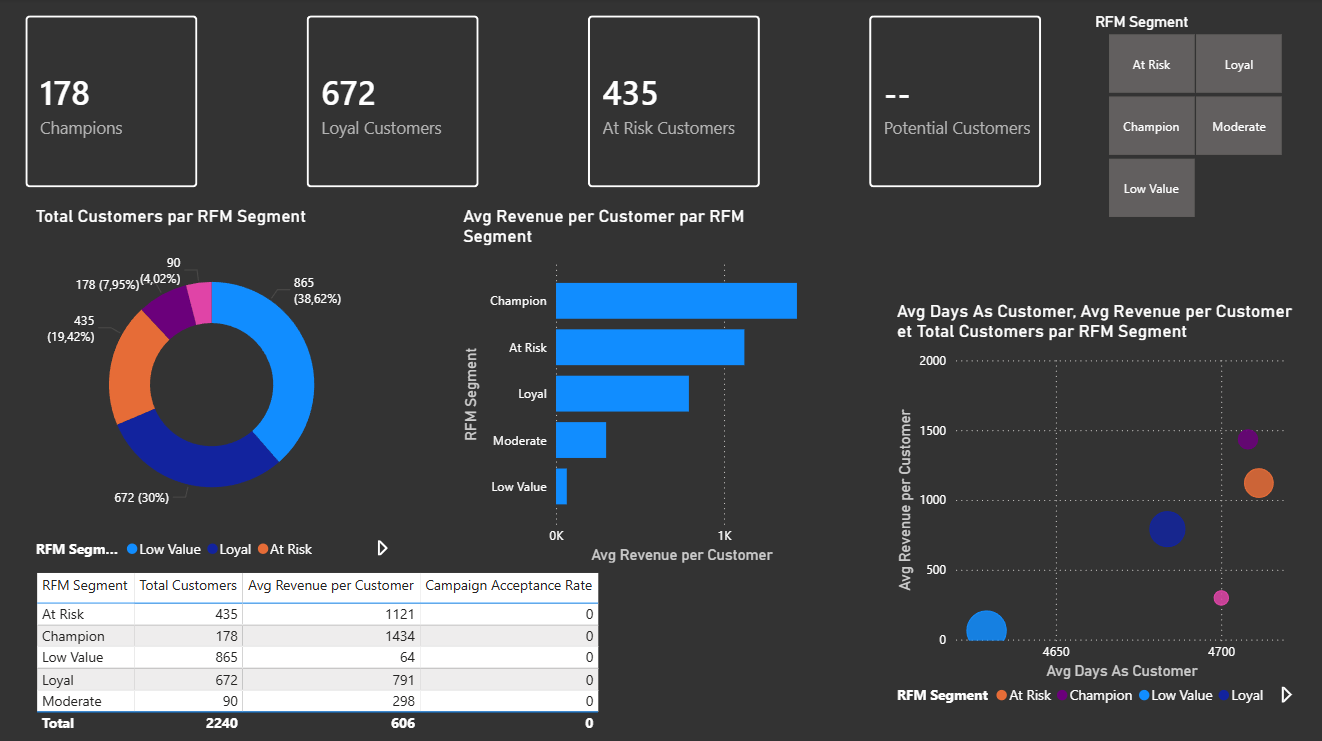

What the dashboard file says about the page in this screenshot:
{"tool":"powerbi","page":{"name":"Customer Segmentation","canvas":[1280,720],"ordinal":3},"visuals":[{"type":"cardVisual","fields":{"Data":["_Measures.Champions"]},"box":[10,0,200,200],"z":0},{"type":"cardVisual","fields":{"Data":["_Measures.Loyal Customers"]},"box":[281.4,0,200,200],"z":1000},{"type":"cardVisual","fields":{"Data":["_Measures.At Risk Customers"]},"box":[552.9,0,200,200],"z":2000},{"type":"cardVisual","fields":{"Data":["_Measures.Potential Customers"]},"box":[824.3,0,200,200],"z":3000},{"type":"donutChart","fields":{"Y":["_Measures.Total Customers"],"Category":["Dim_Customers.RFM Segment"]},"box":[31.4,200,350,350],"z":4000},{"type":"clusteredBarChart","fields":{"Category":["Dim_Customers.RFM Segment"],"Y":["_Measures.Avg Revenue per Customer"]},"box":[444.3,200,350,350],"z":5000},{"type":"scatterChart","fields":{"X":["_Measures.Avg Days As Customer"],"Y":["_Measures.Avg Revenue per Customer"],"Series":["Dim_Customers.RFM Segment"],"Size":["_Measures.Total Customers"]},"box":[862.9,291.4,400,400],"z":6000},{"type":"tableEx","fields":{"Values":["Dim_Customers.RFM Segment","_Measures.Total Customers","_Measures.Avg Revenue per Customer","_Measures.Campaign Acceptance Rate"]},"box":[31.4,550,721.4,170],"z":7000},{"type":"slicer","fields":{"Values":["Dim_Customers.RFM Segment"]},"box":[1045.7,10,217.1,208.6],"z":8000}]}

Visuals, with their boxes in screenshot pixels (x1, y1, x2, y2), scaled from the page's 1280x720 canvas onto the 1322x741 screenshot:
cardVisual - _Measures.Champions: detection(10, 0, 217, 206)
cardVisual - _Measures.Loyal Customers: detection(291, 0, 497, 206)
cardVisual - _Measures.At Risk Customers: detection(571, 0, 778, 206)
cardVisual - _Measures.Potential Customers: detection(851, 0, 1058, 206)
donutChart - _Measures.Total Customers x Dim_Customers.RFM Segment: detection(32, 206, 394, 566)
clusteredBarChart - Dim_Customers.RFM Segment x _Measures.Avg Revenue per Customer: detection(459, 206, 820, 566)
scatterChart - _Measures.Avg Days As Customer x _Measures.Avg Revenue per Customer: detection(891, 300, 1304, 712)
tableEx - Dim_Customers.RFM Segment x _Measures.Total Customers: detection(32, 566, 778, 740)
slicer - Dim_Customers.RFM Segment: detection(1080, 10, 1304, 225)
